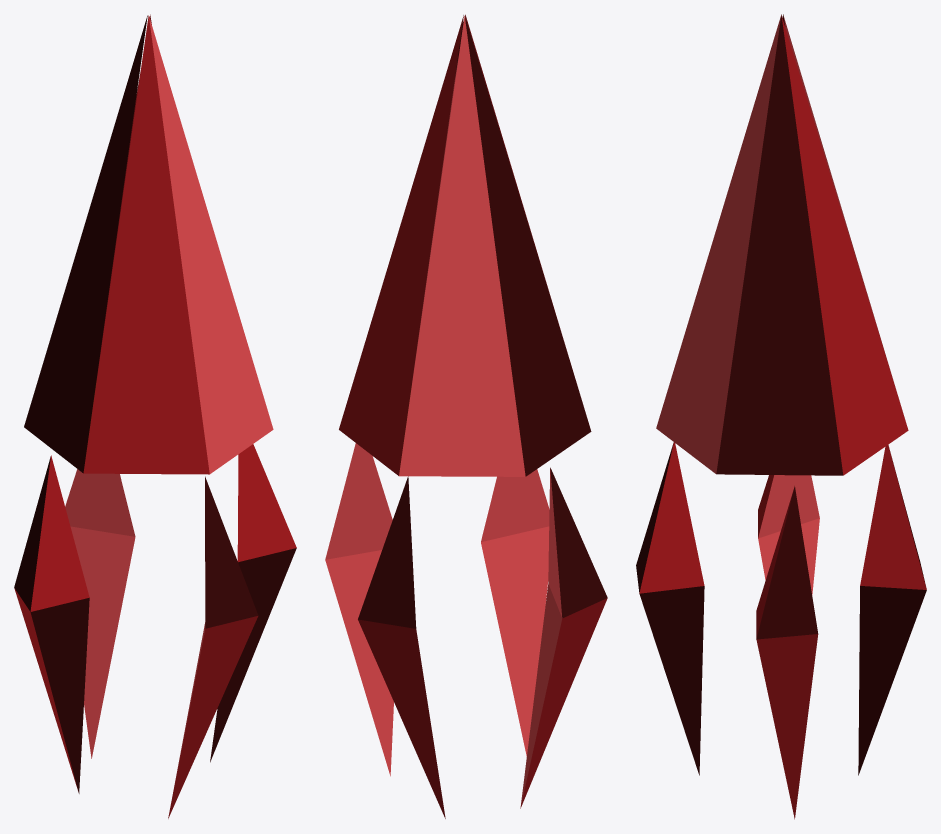
3 renders of one model, left to right at view 1: azimuth 30°, elevation 25°; view 2: azimuth 150°, elevation 25°; view 3: azimuth 270°, elevation 25°, orthographic.
Visible parts, largest first — view 1: ss3d_58_shodan; view 2: ss3d_58_shodan; view 3: ss3d_58_shodan.
Part boxes in pixels (x1=…): ss3d_58_shodan: x1=14, y1=14, x2=296, y2=818; ss3d_58_shodan: x1=325, y1=14, x2=607, y2=818; ss3d_58_shodan: x1=636, y1=14, x2=926, y2=819.
Bounding box in the file's own units: 0.6469 × 1.79 × 0.6117.
Materials: 1 (1 with a texture image).
